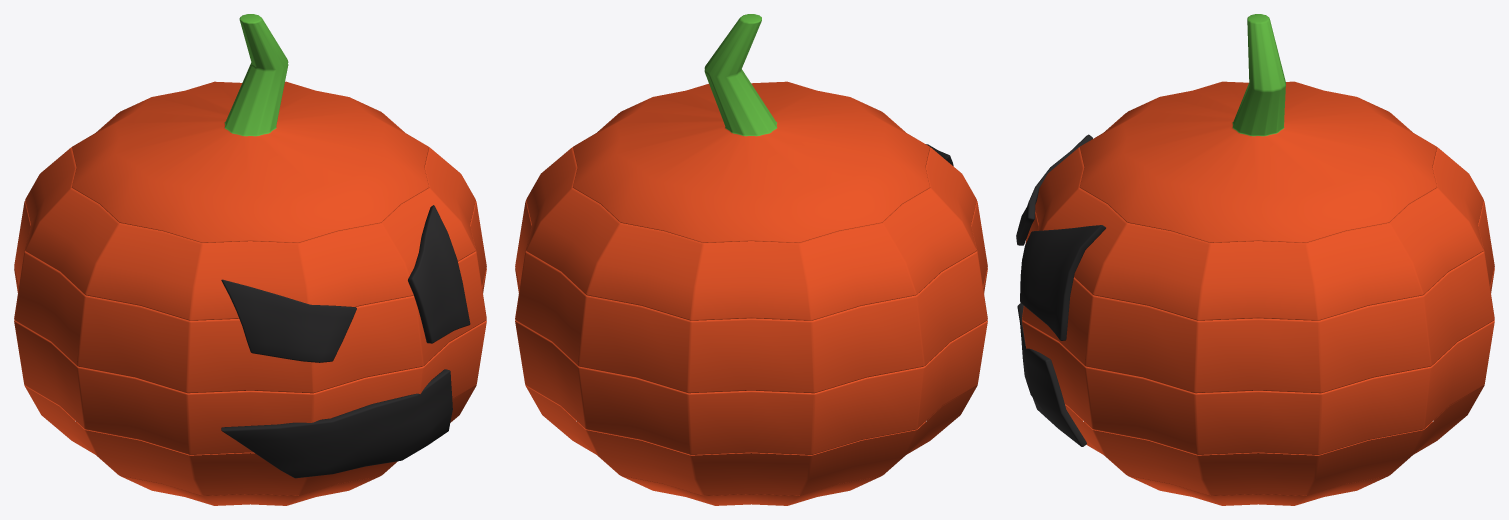
The model's file is Pumpkin.fbx.
3 renders of one model, left to right at view 1: azimuth 30°, elevation 25°; view 2: azimuth 150°, elevation 25°; view 3: azimuth 270°, elevation 25°, orthographic.
Parts seen in each view (by area): view 1: Plane; view 2: Plane; view 3: Plane.
Boxes of the visible parts, x1,y1,x2,y2 form: Plane: (14, 14, 486, 505); Plane: (515, 14, 987, 505); Plane: (1016, 14, 1494, 505).
Bounding box in the file's own units: 127 × 132 × 129.
